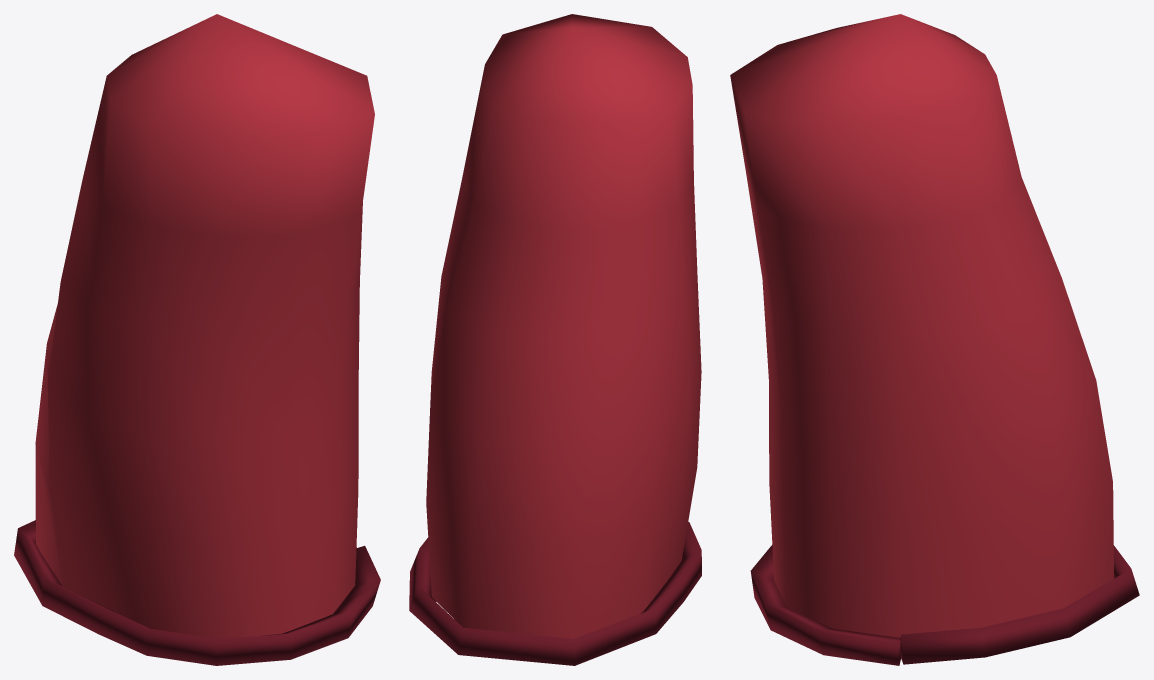
File: crimtane_armor_boot.L.glb
The picture shows the model from 3 angles, left to right: view 1: azimuth 30°, elevation 25°; view 2: azimuth 150°, elevation 25°; view 3: azimuth 270°, elevation 25°; orthographic projection. The views are drawn at different scales.
Parts seen in each view (by area): view 1: crimtane_armor_boot.L; view 2: crimtane_armor_boot.L; view 3: crimtane_armor_boot.L.
Part boxes in pixels (box(x1,y1,x2,y2)): crimtane_armor_boot.L: box(14, 14, 380, 665); crimtane_armor_boot.L: box(409, 14, 701, 665); crimtane_armor_boot.L: box(730, 14, 1139, 665).
Bounding box in the file's own units: 0.1461 × 0.2958 × 0.1877.
